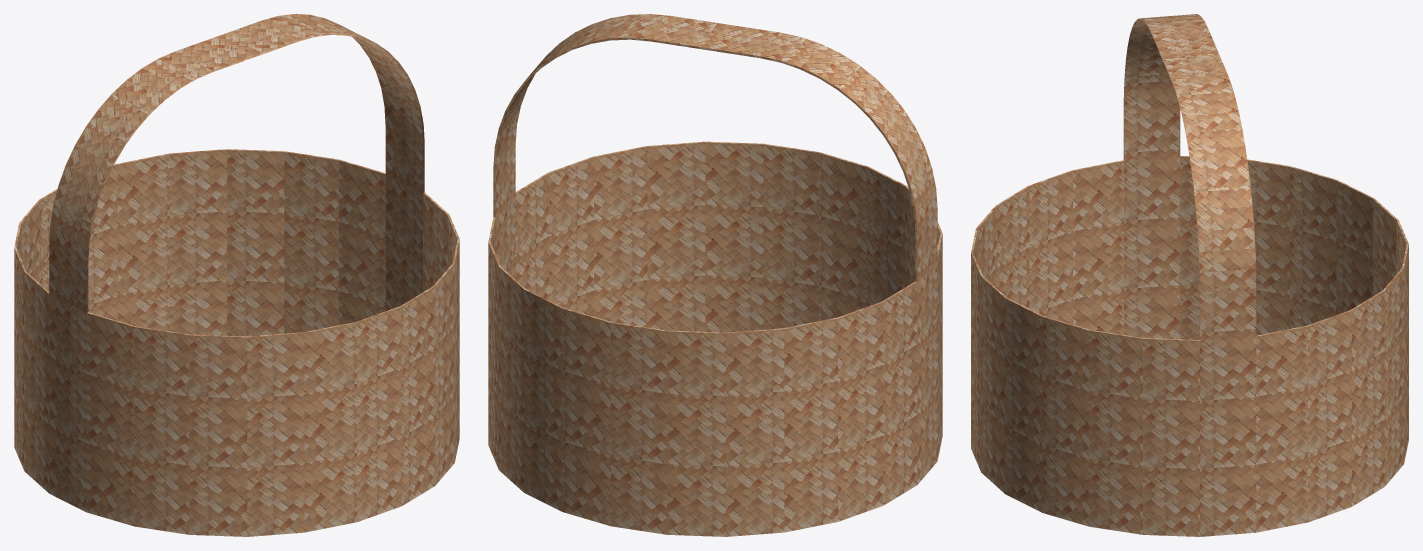
The picture shows the model from 3 angles, left to right: view 1: azimuth 30°, elevation 25°; view 2: azimuth 150°, elevation 25°; view 3: azimuth 270°, elevation 25°; orthographic projection. The views are drawn at different scales.
Visible parts, largest first — view 1: CORPE; view 2: CORPE; view 3: CORPE.
Boxes of the visible parts, x1=… form: CORPE: x1=14, y1=14, x2=459, y2=536; CORPE: x1=488, y1=14, x2=942, y2=536; CORPE: x1=971, y1=14, x2=1408, y2=536.
Size of the model in its own units: 16.16 by 16.16 by 15.9.
1 material, 1 textured.
